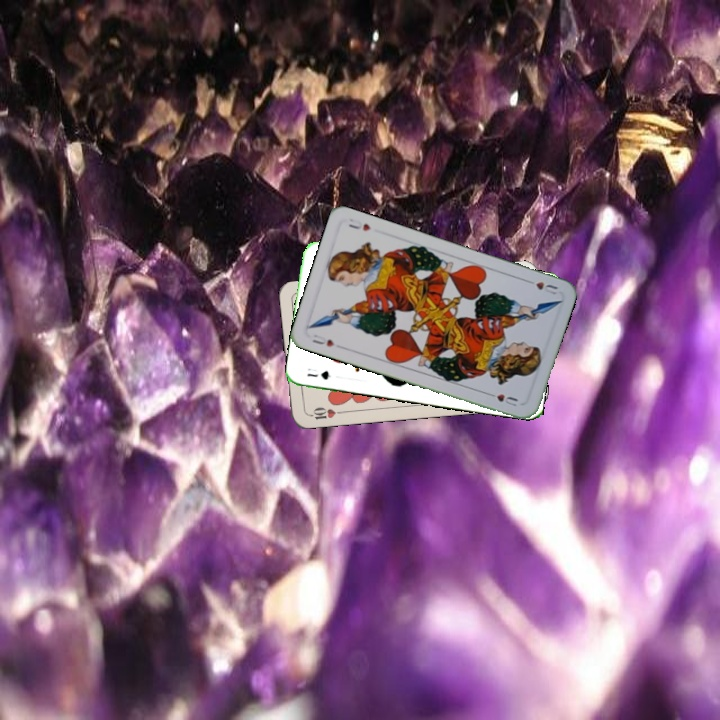GU: (303, 364, 333, 382)
H10: (304, 403, 345, 423)
HU: (522, 276, 560, 297), (308, 330, 337, 349)
